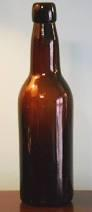Glass bottle: (7, 1, 86, 212)
